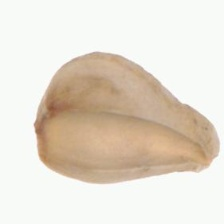L1: (193, 115, 221, 173), (33, 94, 49, 163)
L2: (34, 50, 220, 185)
